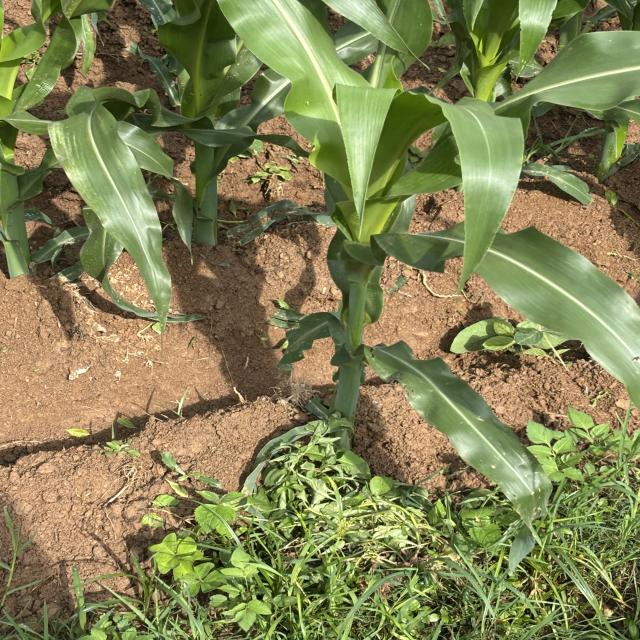maize: (253, 0, 640, 442), (0, 0, 256, 367)
weed: (0, 440, 640, 640)
